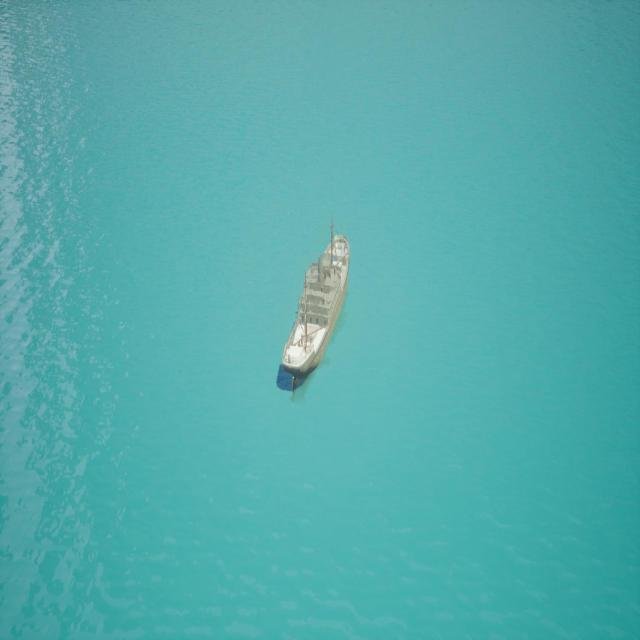fishing ship: (281, 225, 353, 402)
